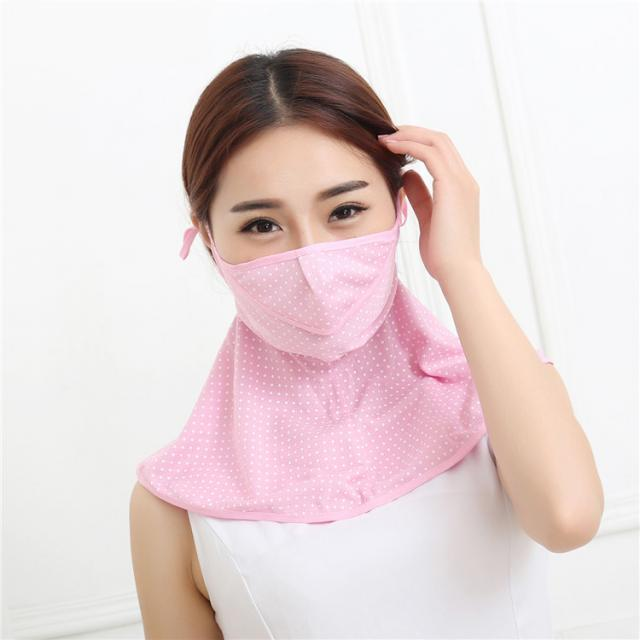mask: (209, 125, 399, 361)
